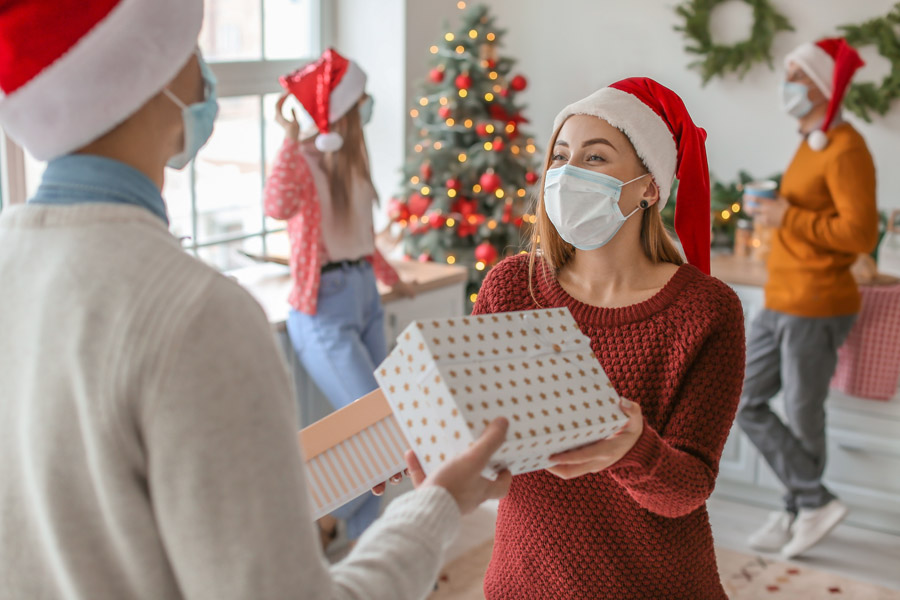female: (439, 75, 750, 600), (263, 45, 421, 416)
male: (1, 1, 298, 600), (734, 35, 880, 562)
